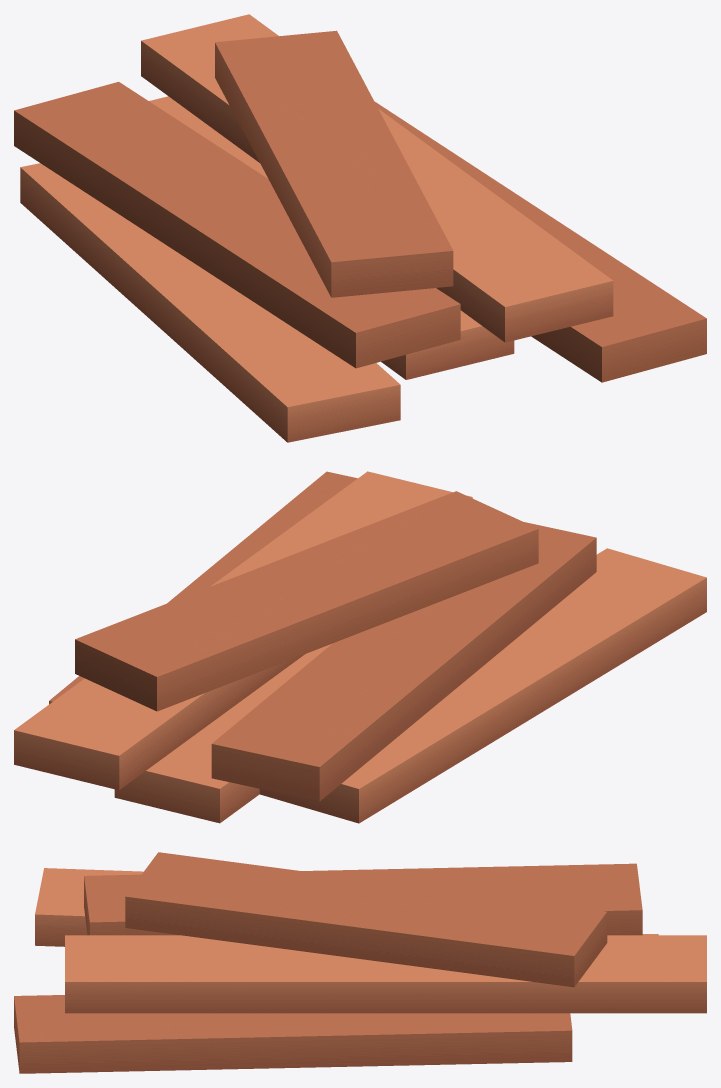
Rendered from resource-planks.glb.
The picture shows the model from 3 angles, top to bottom: view 1: azimuth 30°, elevation 25°; view 2: azimuth 150°, elevation 25°; view 3: azimuth 270°, elevation 25°; orthographic projection. The views are drawn at different scales.
Visible parts, largest first — view 1: resource-planks; view 2: resource-planks; view 3: resource-planks.
Boxes of the visible parts, x1,y1,x2,y2 form: resource-planks: (14, 14, 706, 442); resource-planks: (14, 471, 706, 823); resource-planks: (14, 852, 706, 1073).
Size of the model in its own units: 0.3729 by 0.0936 by 0.626.
1 material, 1 textured.
